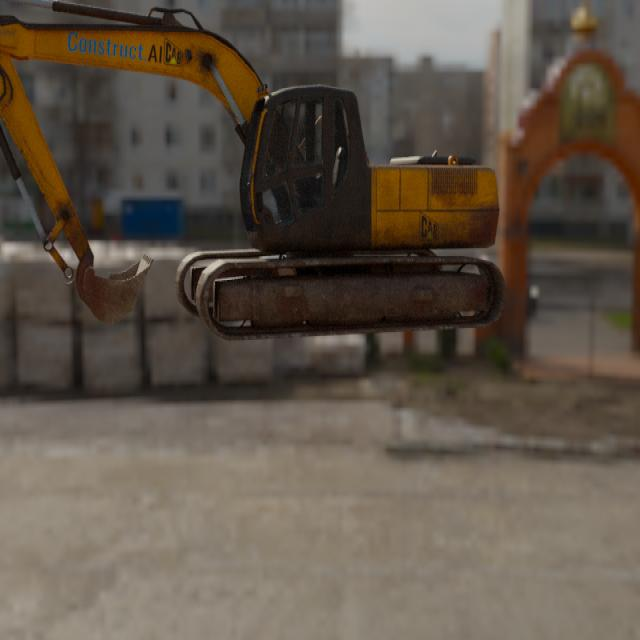excavator: (0, 0, 507, 341)
